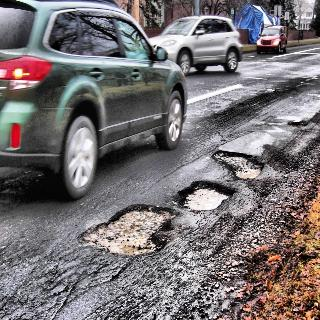pothole: (80, 193, 173, 273), (212, 142, 280, 186), (178, 184, 251, 221)
